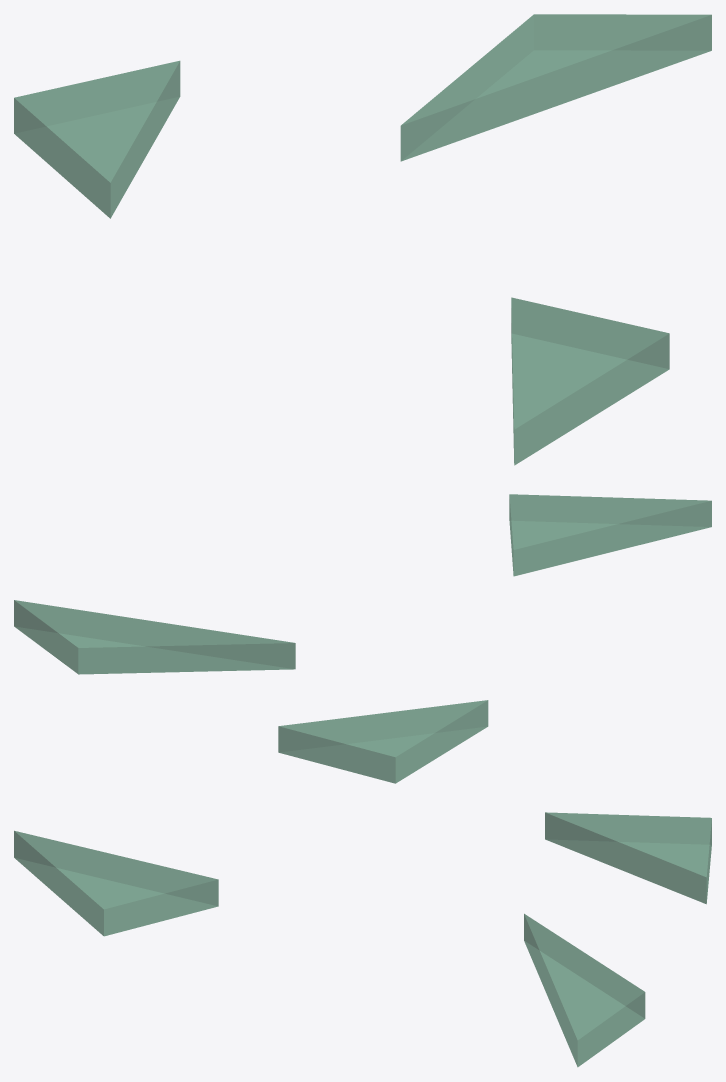
File: PetriFragments001.FBX
3 views of the same model, one above another, from view 1: azimuth 30°, elevation 25°; view 2: azimuth 150°, elevation 25°; view 3: azimuth 270°, elevation 25° (orthographic). The views are drawn at different scales.
Parts seen in each view (by area): view 1: Object001; view 2: Object001; view 3: Object001.
Part boxes in pixels (x1,y1,x2,y2): Object001: [14, 14, 711, 465]; Object001: [14, 494, 711, 783]; Object001: [14, 812, 711, 1067].
Bounding box in the file's own units: 31.63 × 1.74 × 40.89.
